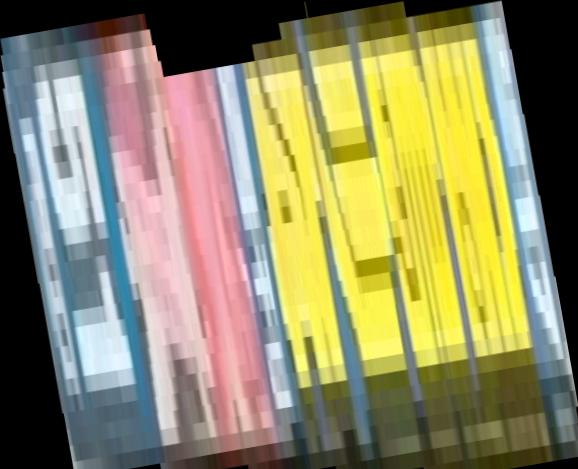flat: (1, 1, 578, 469)
